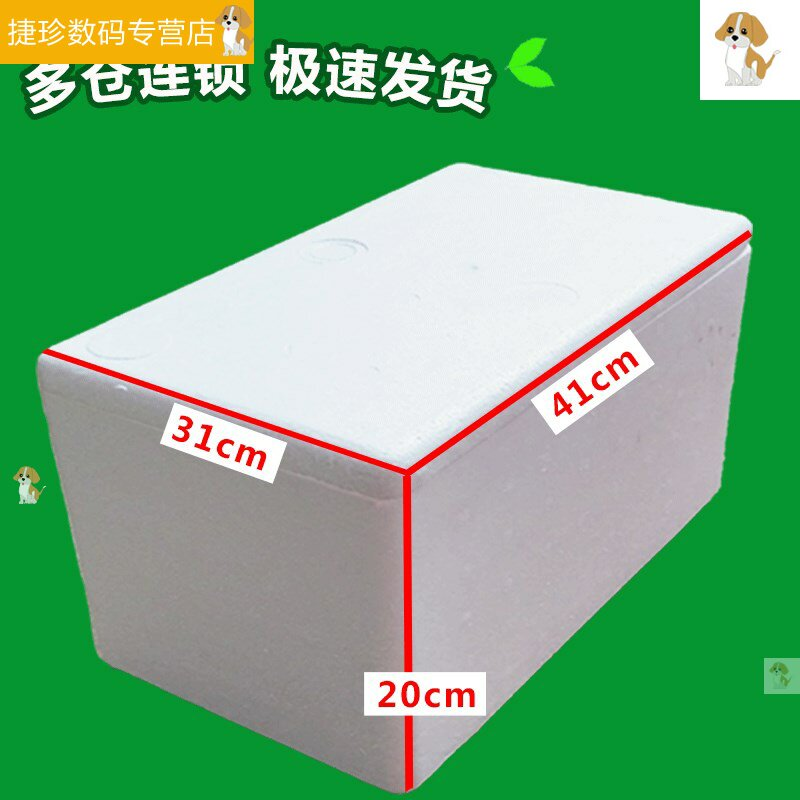Boxes: (38, 165, 751, 792)
